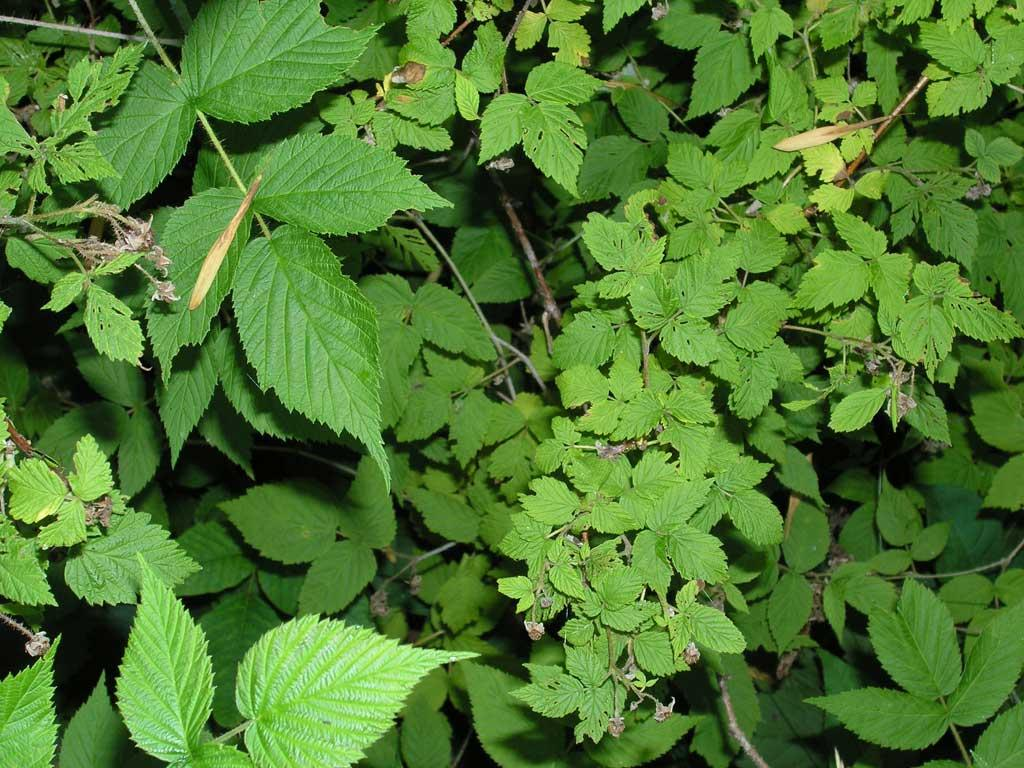Raspberry leaf: (228, 223, 404, 500), (234, 603, 485, 767), (111, 183, 254, 380), (53, 44, 185, 224), (205, 1, 386, 125), (116, 552, 218, 767), (247, 134, 455, 237)
